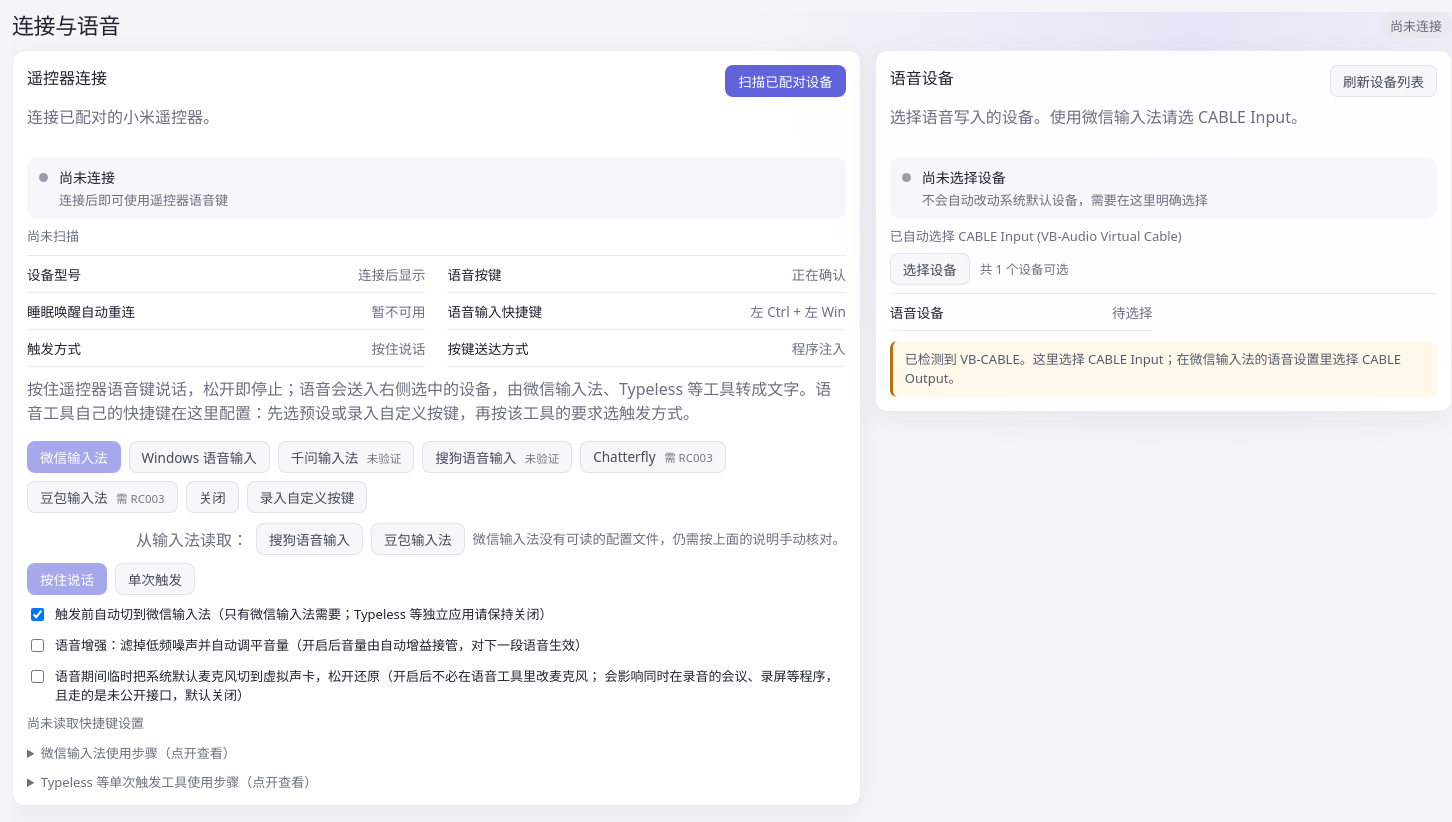
Test: 语音输入快捷键设置 › 从输入法读取热键：读到后直接套用并说明来源
The image size is (1452, 822).
Click the button "搜狗语音输入". click: (310, 539)
box: [256,523,363,555]
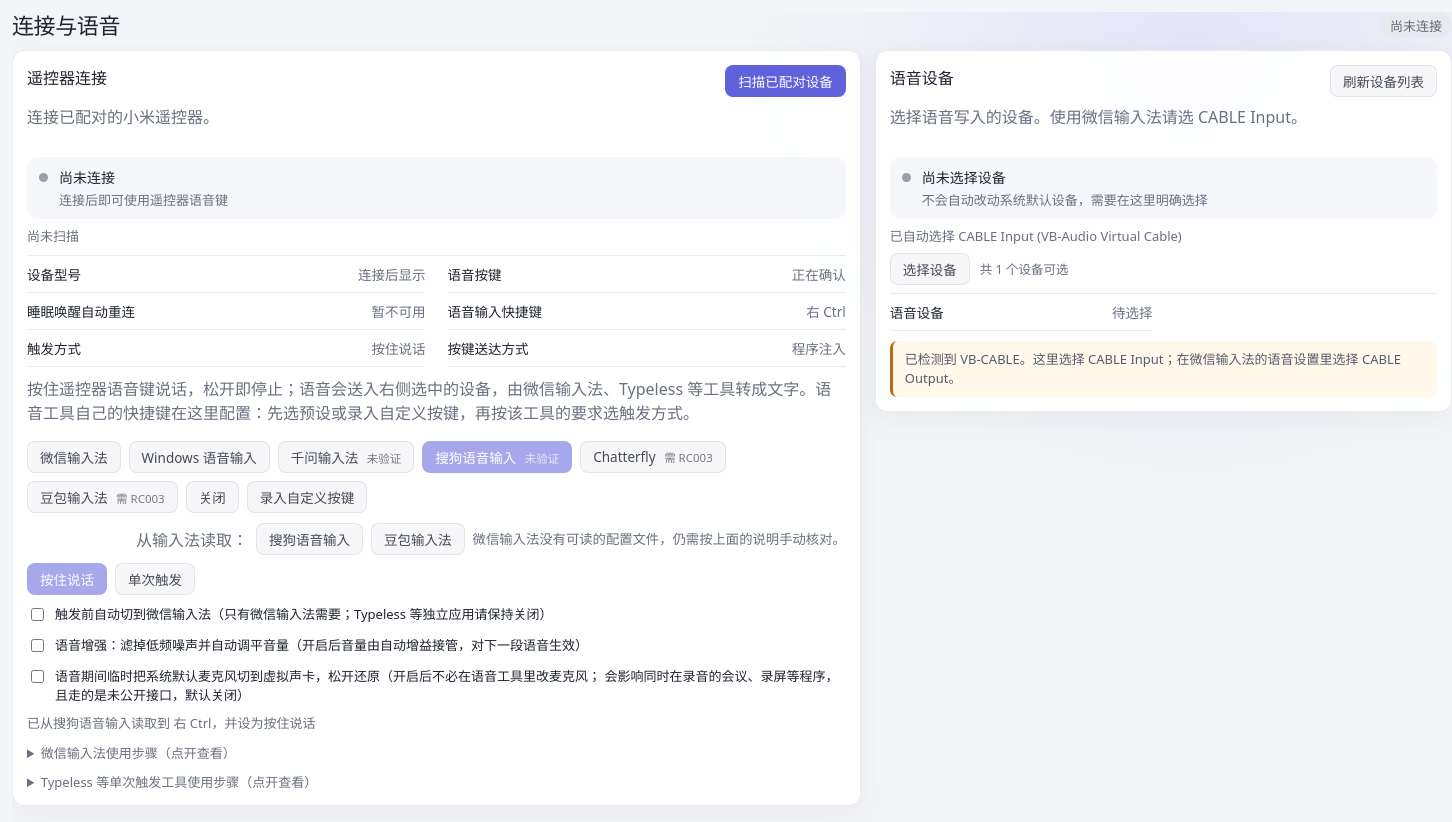
Expected: the text "已从搜狗语音输入读取到" is shown, [27,714,315,732]
